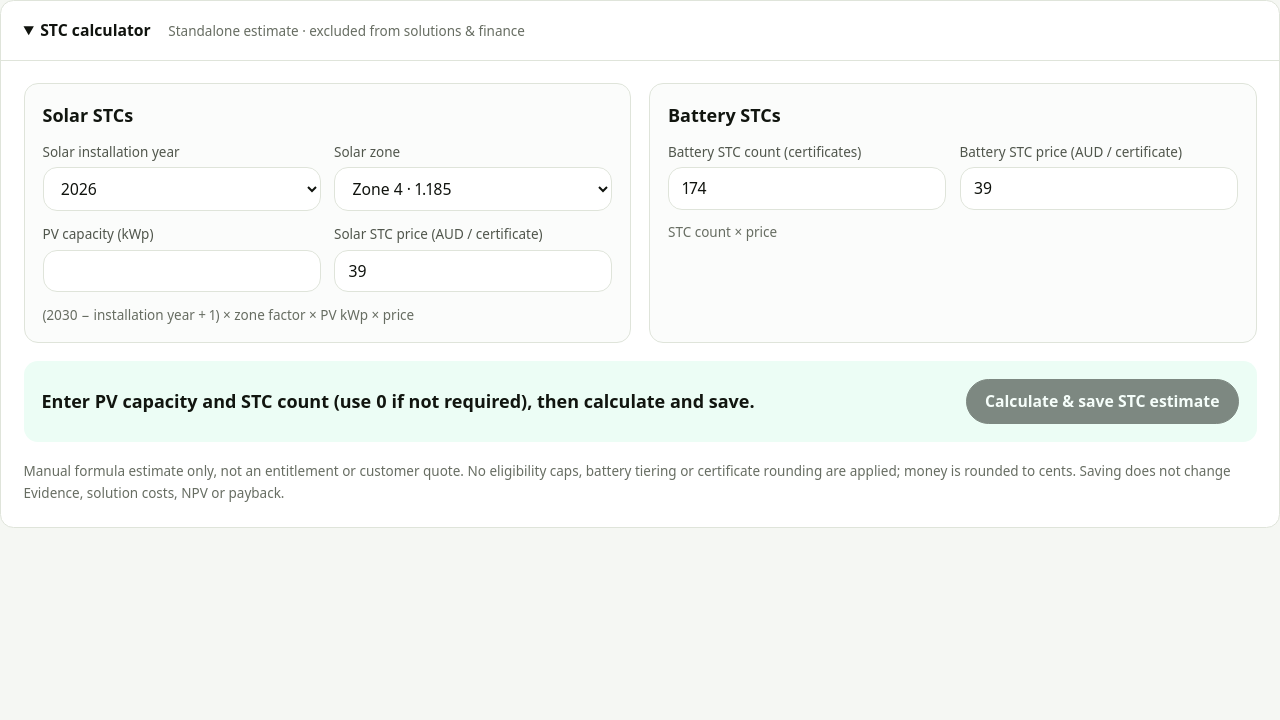
Test: reports a save failure without displaying an unsaved estimate
The width and height of the screenshot is (1280, 720).
Type "140" into the number field labelled "PV capacity (kWp)".
click(182, 271); type("140")  # box [42,250,320,292]
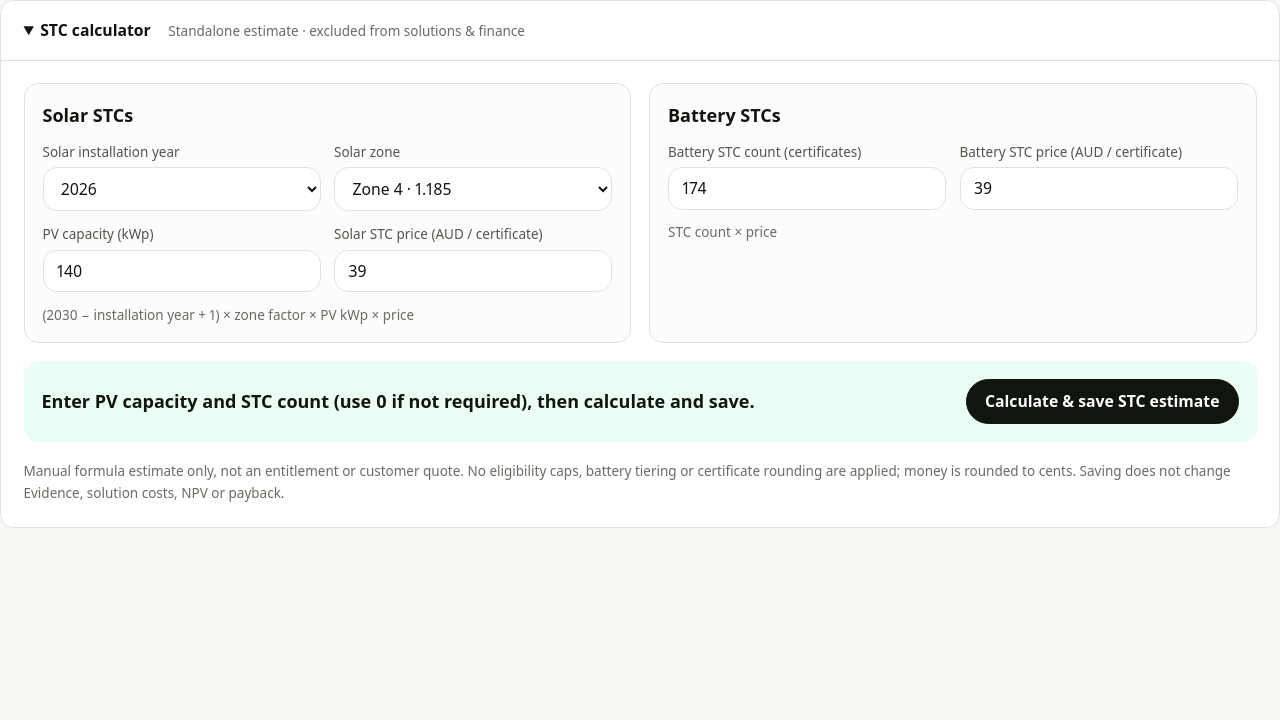
Replace the text in the number field labelled "Battery STC count (certificates)" with "0" at (807, 189), box [668,167,946,210]
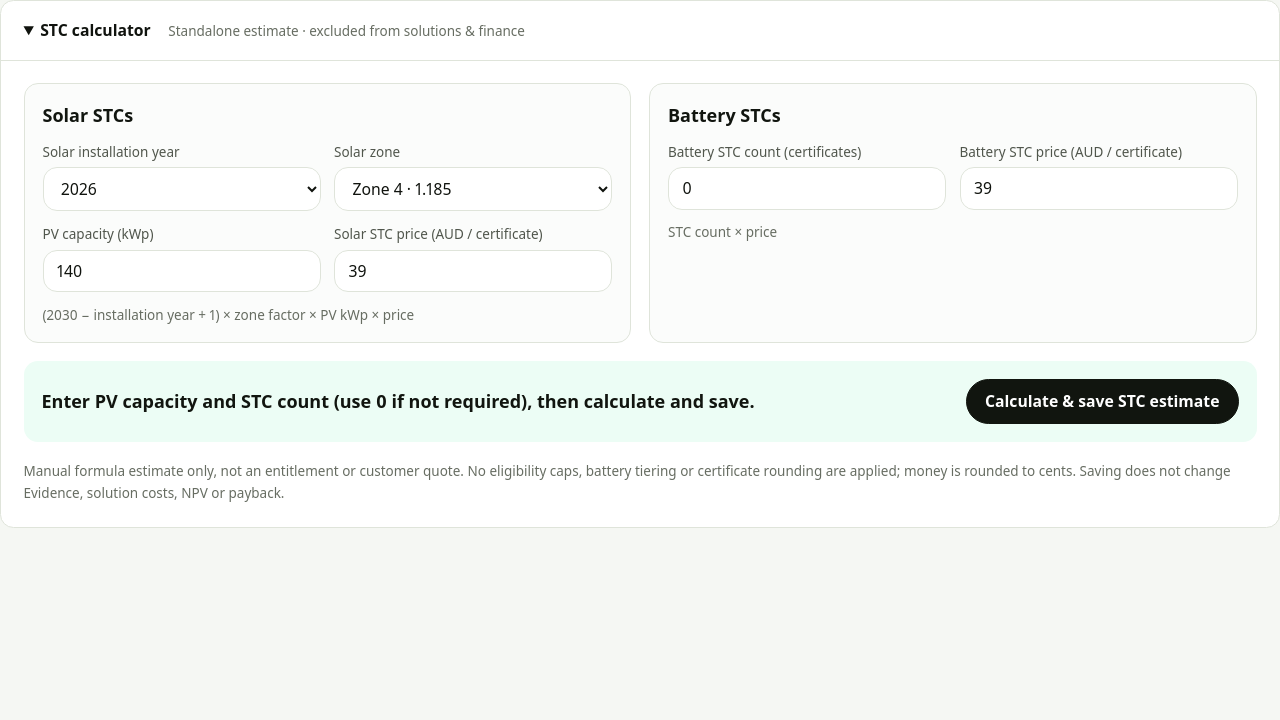
Click the button "Calculate & save STC estimate".
click(1102, 401)  # box [966,378,1238,424]
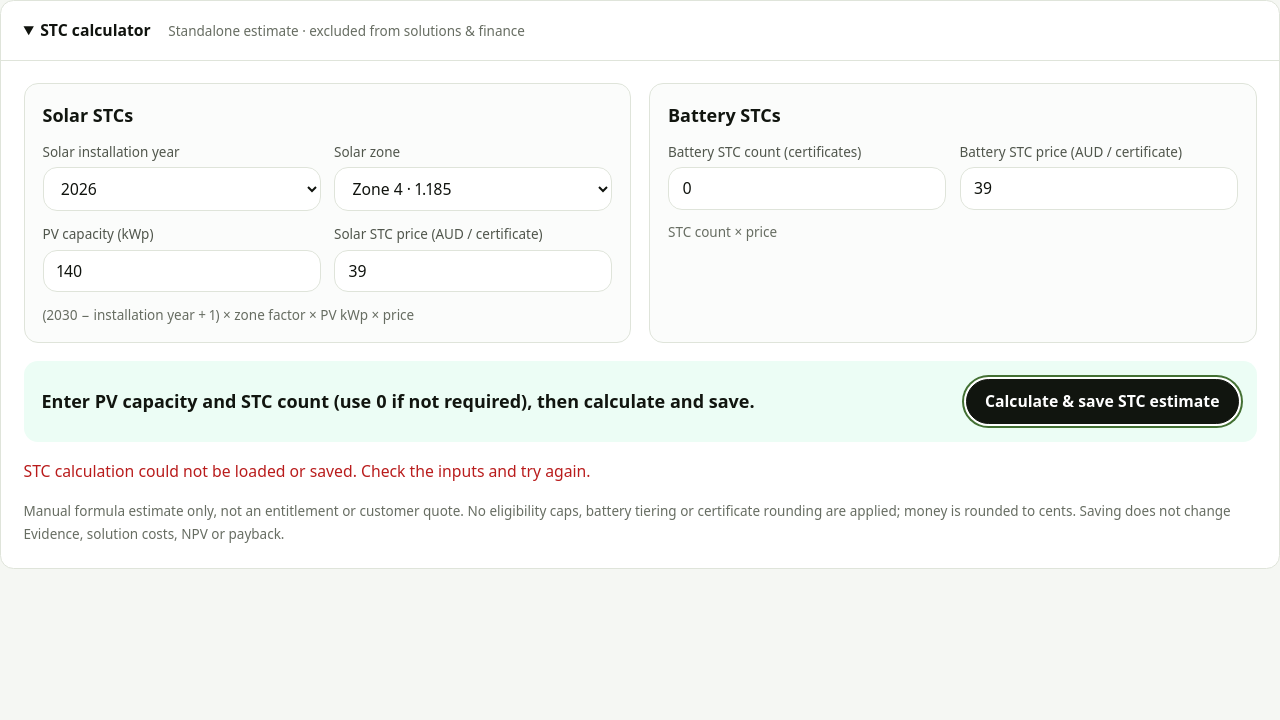
Now the message "STC calculation could not be loaded or saved. Check the inputs and try again." is shown, box [24,460,591,482]
